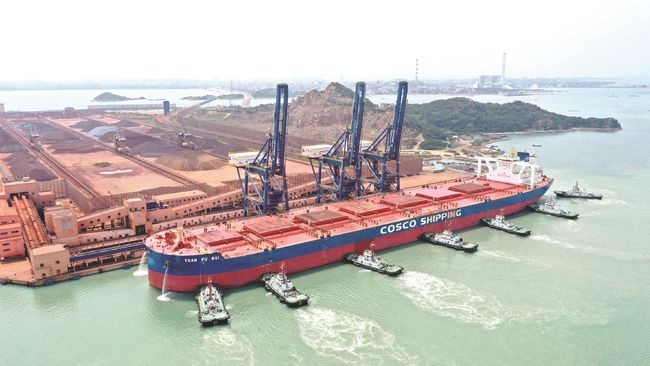Cargoship: (137, 148, 556, 293)
otherboat: (260, 263, 313, 305), (345, 246, 405, 279), (191, 280, 233, 327), (424, 224, 480, 258), (481, 212, 534, 240), (554, 180, 606, 199), (532, 199, 581, 219)
